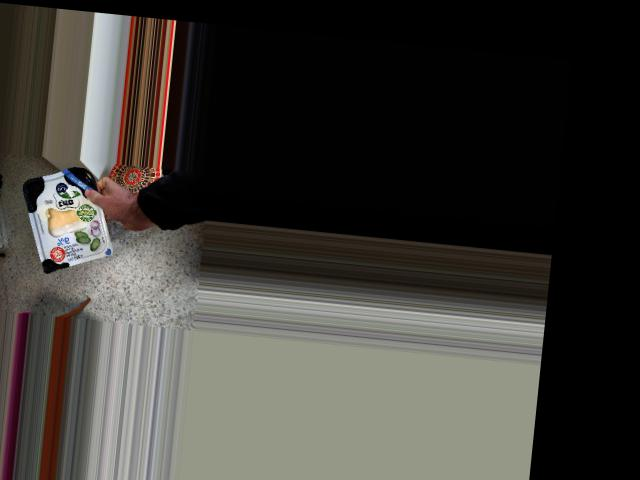cheese: (33, 175, 110, 268)
